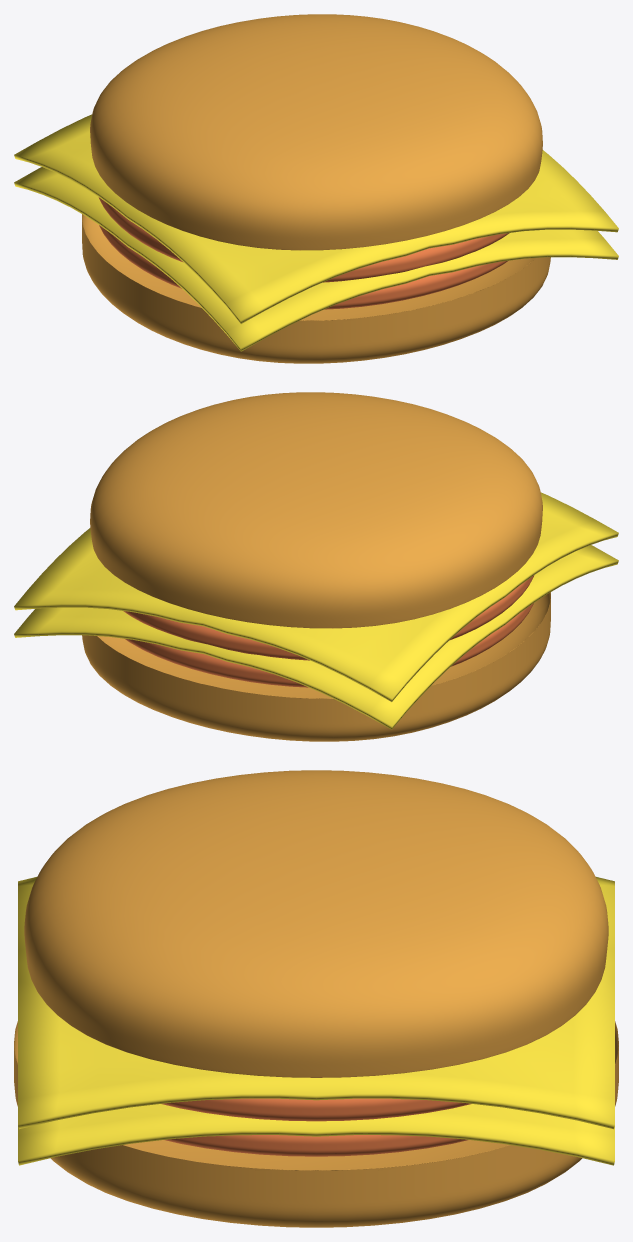
File: burger.glb
3 renders of one model, top to bottom at view 1: azimuth 30°, elevation 25°; view 2: azimuth 150°, elevation 25°; view 3: azimuth 270°, elevation 25°, orthographic. The views are drawn at different scales.
Visible parts, largest first — view 1: Cube.003, Cube, Plane.001, Plane, Cube.002, Cube.001; view 2: Cube.003, Cube, Plane.001, Plane, Cube.002, Cube.001; view 3: Cube.003, Plane.001, Cube, Plane, Cube.002, Cube.001.
Boxes of the visible parts, x1,y1,x2,y2 form: Cube.003: (90, 14, 542, 250); Cube: (82, 214, 550, 363); Plane.001: (14, 114, 618, 323); Plane: (14, 167, 618, 351); Cube.002: (98, 197, 509, 282); Cube.001: (99, 225, 508, 309); Cube.003: (90, 392, 542, 628); Cube: (82, 592, 550, 741); Plane.001: (14, 492, 618, 701); Plane: (14, 545, 618, 729); Cube.002: (123, 575, 534, 660); Cube.001: (124, 603, 533, 687); Cube.003: (24, 770, 608, 1077); Plane.001: (18, 877, 614, 1129); Cube: (14, 1021, 618, 1227); Plane: (18, 1104, 614, 1165); Cube.002: (161, 1098, 471, 1121); Cube.001: (165, 1135, 467, 1156).
Bounding box in the file's own units: 7.98 × 4.17 × 7.98.
